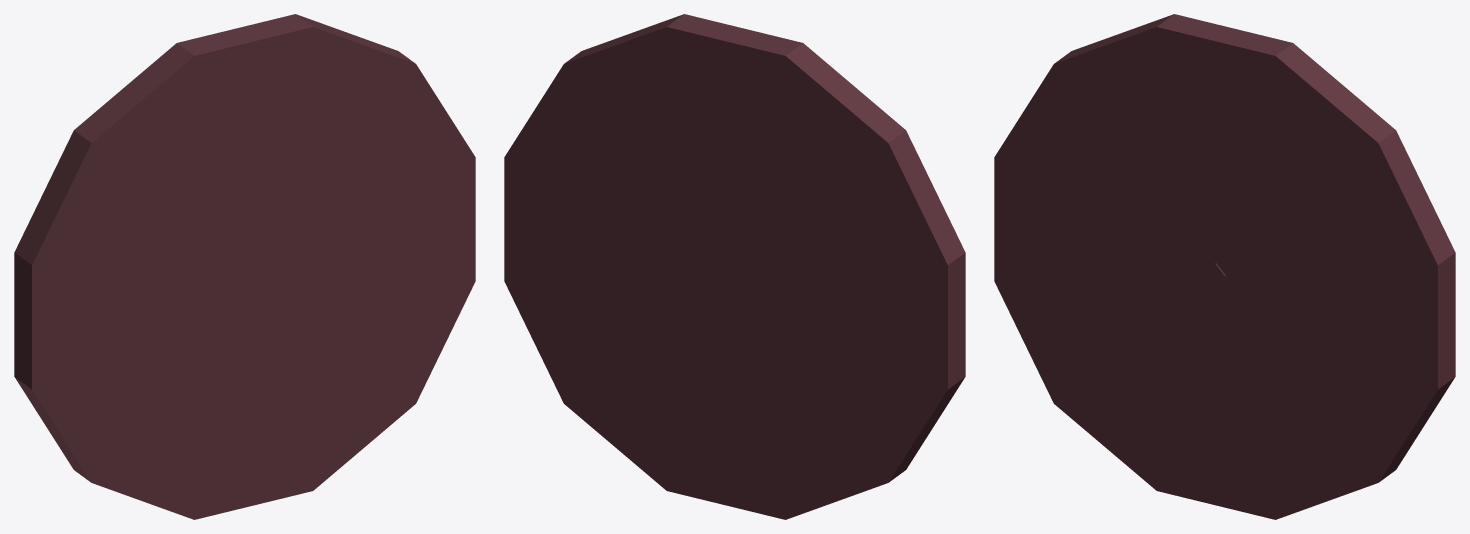
Rendered from dartboard.fbx.
3 views of the same model, side by side, from view 1: azimuth 30°, elevation 25°; view 2: azimuth 150°, elevation 25°; view 3: azimuth 330°, elevation 25° (orthographic).
Visible parts, largest first — view 1: dartboard; view 2: dartboard; view 3: dartboard.
Part boxes in pixels (x1=…): dartboard: x1=14, y1=14, x2=475, y2=519; dartboard: x1=504, y1=14, x2=965, y2=519; dartboard: x1=994, y1=14, x2=1455, y2=519.
Size of the model in its own units: 0.4347 by 0.4347 by 0.0313.
